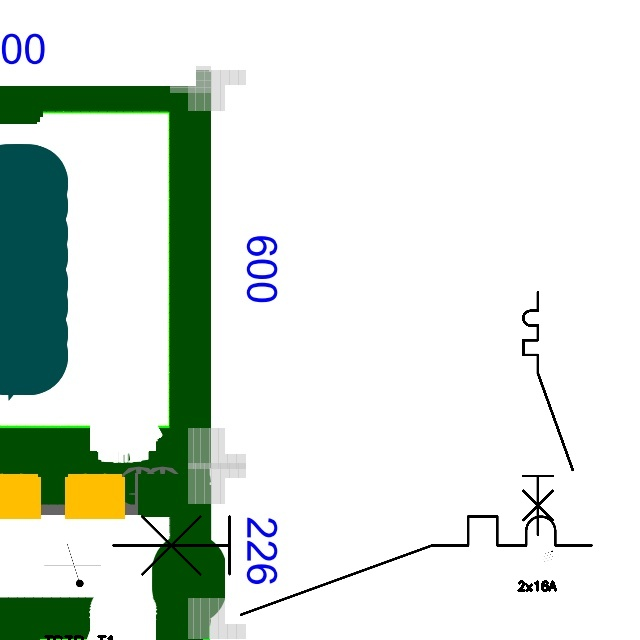interruptor_termomagnetico: (100, 504, 603, 627), (517, 286, 579, 541)
